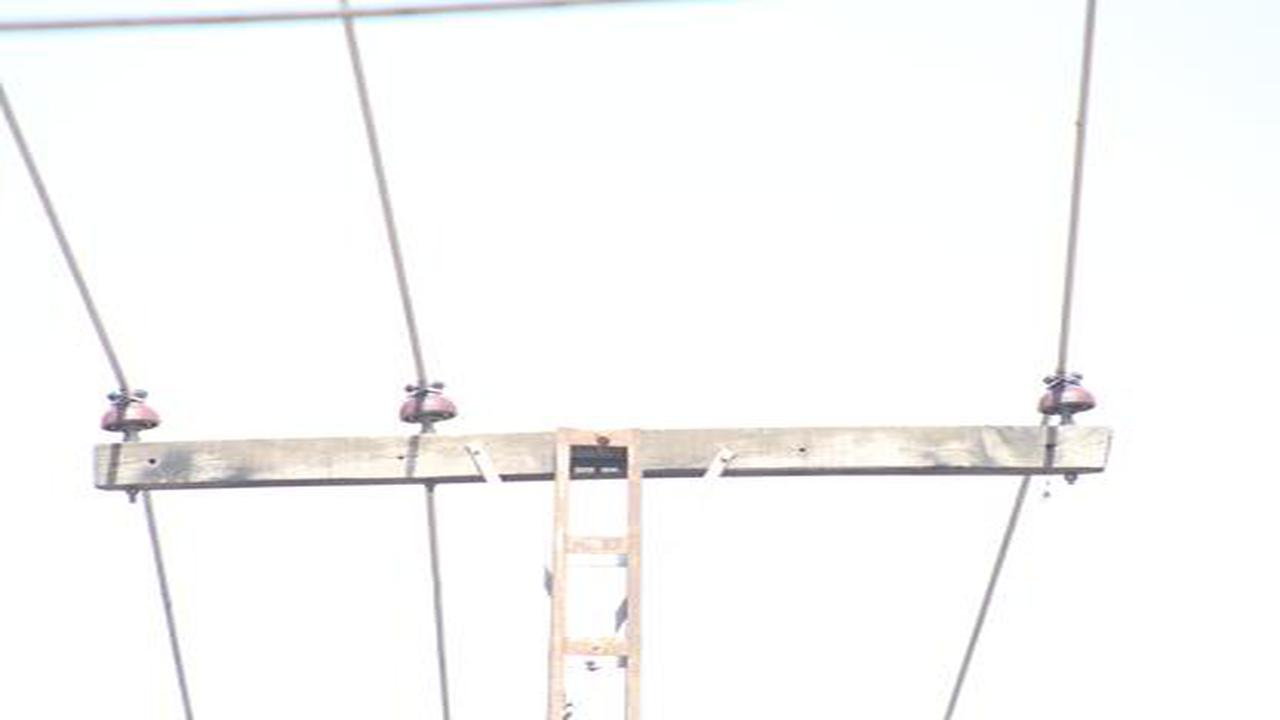insulator_pin: (398, 377, 459, 431), (1035, 372, 1096, 424), (100, 387, 166, 434)
